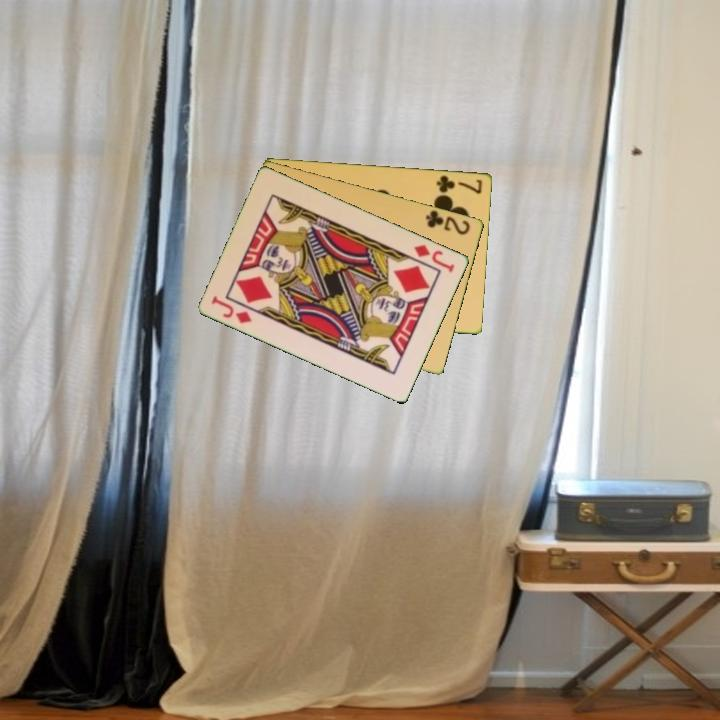2c: (422, 207, 474, 238)
7c: (433, 171, 485, 196)
Jd: (411, 241, 458, 275), (208, 292, 255, 326)
